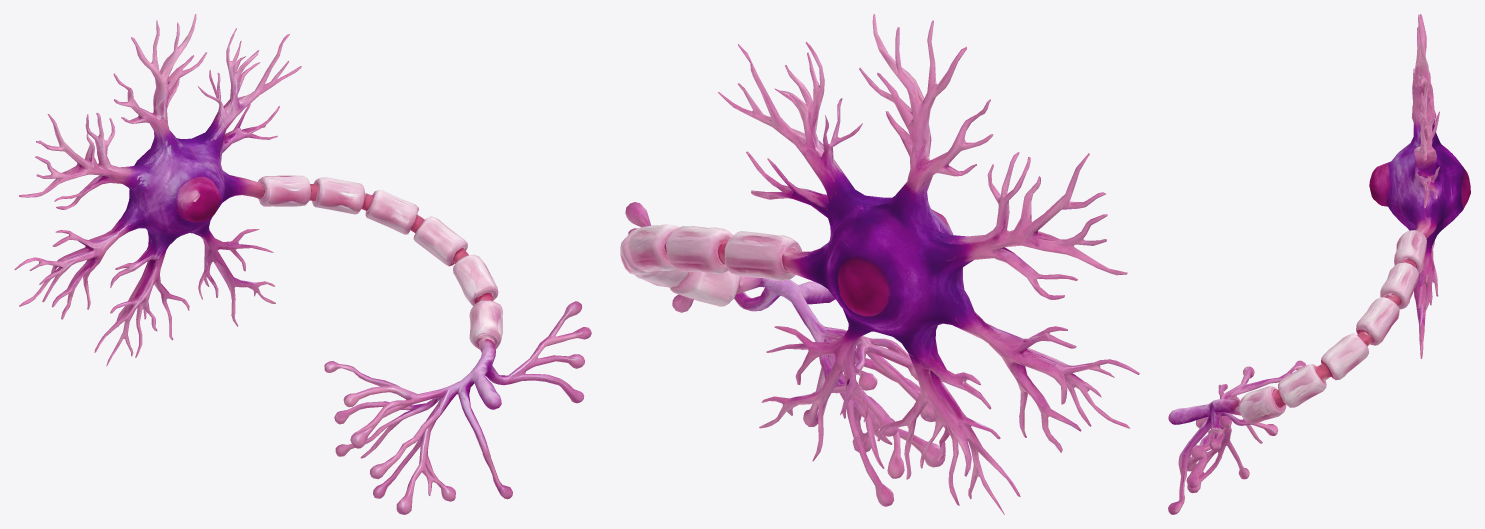
The model's file is neuron.glb.
3 renders of one model, left to right at view 1: azimuth 30°, elevation 25°; view 2: azimuth 150°, elevation 25°; view 3: azimuth 270°, elevation 25°, orthographic. The views are drawn at different scales.
Parts seen in each view (by area): view 1: Mesh_0; view 2: Mesh_0; view 3: Mesh_0.
Boxes of the visible parts, <box> form: Mesh_0: <box>14,14,591,514</box>; Mesh_0: <box>620,14,1139,514</box>; Mesh_0: <box>1168,14,1470,514</box>.
Bounding box in the file's own units: 1.91 × 1.72 × 1.16.
Materials: 1 (1 with a texture image).
